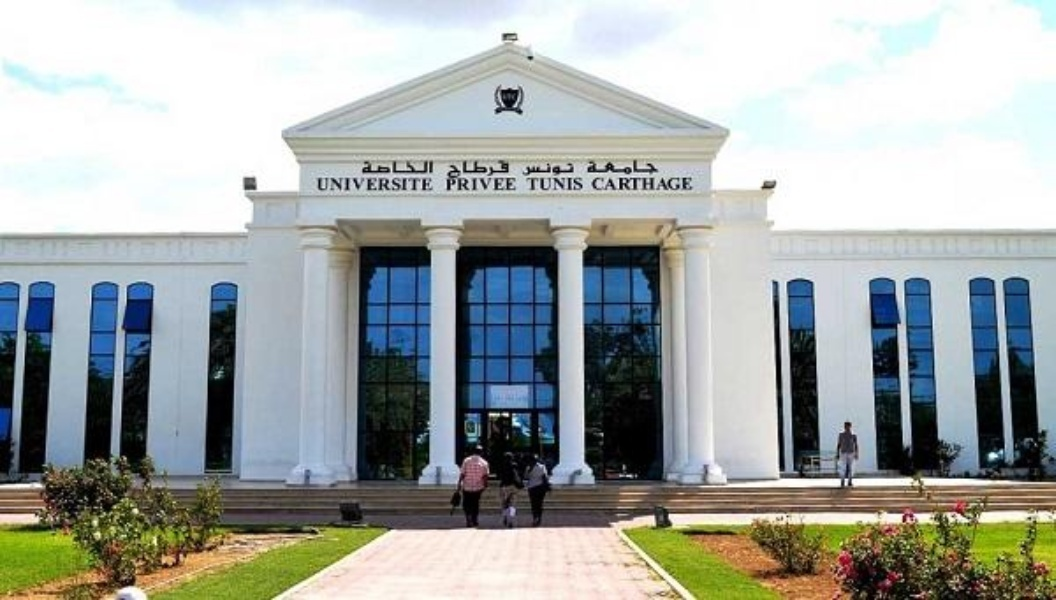text: (497, 159, 513, 180), (593, 173, 608, 194), (609, 173, 624, 194), (625, 173, 640, 194), (641, 173, 656, 194), (657, 173, 672, 194), (673, 173, 688, 194), (449, 159, 464, 180), (465, 159, 480, 180), (481, 159, 496, 180), (321, 173, 336, 192), (337, 173, 352, 192), (353, 173, 368, 192), (369, 173, 384, 192), (385, 173, 400, 192), (401, 173, 416, 192), (417, 173, 432, 192), (449, 175, 464, 194), (465, 175, 480, 194), (481, 175, 496, 194), (497, 175, 512, 194), (593, 157, 608, 176), (609, 157, 624, 176), (625, 157, 640, 176), (641, 157, 656, 176), (529, 176, 544, 194), (545, 176, 560, 194), (561, 176, 576, 194), (529, 161, 544, 178), (545, 161, 560, 178), (561, 161, 576, 178), (369, 159, 384, 176), (385, 159, 400, 176), (401, 159, 416, 176), (417, 159, 432, 176), (577, 176, 587, 194), (689, 173, 697, 194), (513, 175, 521, 194), (520, 161, 528, 178), (360, 159, 368, 176), (585, 157, 592, 176), (314, 173, 320, 192), (442, 175, 448, 194), (657, 157, 662, 176), (444, 159, 448, 180), (433, 173, 437, 192), (433, 159, 437, 176), (525, 176, 528, 194), (577, 161, 580, 178)
